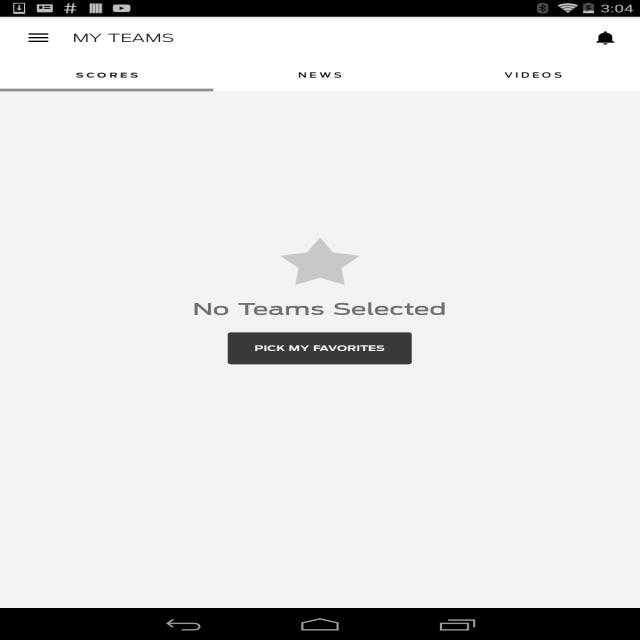Button: (228, 332, 412, 364)
ImageButton: (9, 17, 68, 59)
ImageView: (280, 236, 360, 286)
ProgressBar: (0, 125, 51, 156)
TextView: (192, 300, 447, 319), (580, 22, 632, 54), (72, 31, 174, 45), (75, 71, 138, 79), (504, 71, 562, 79), (298, 71, 341, 79)
